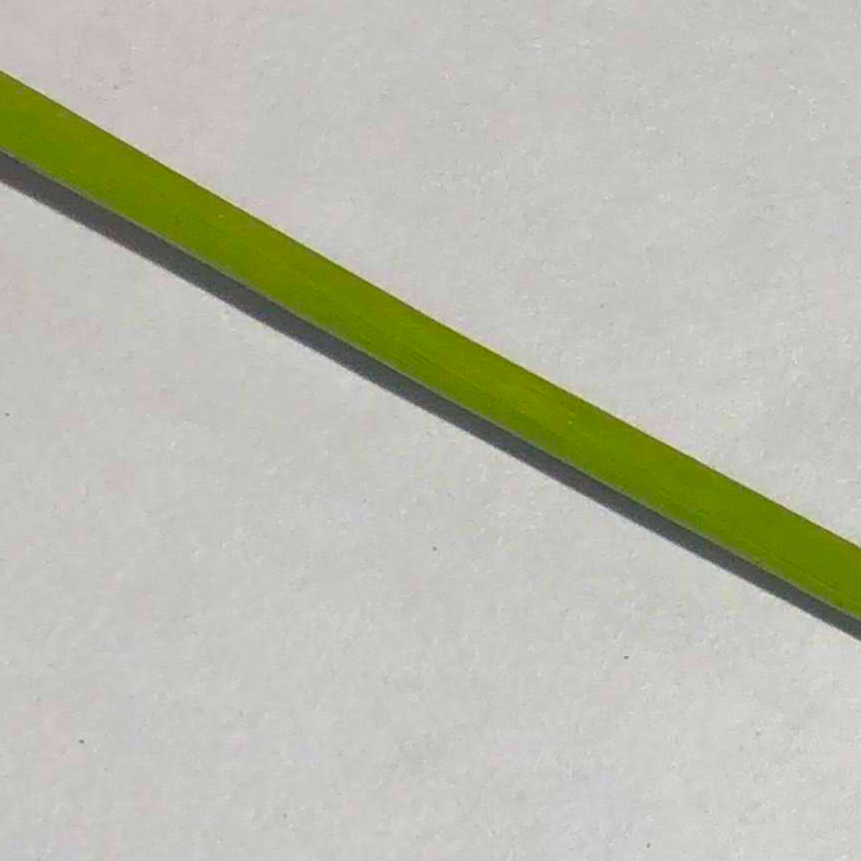healthy: (1, 65, 860, 639)
